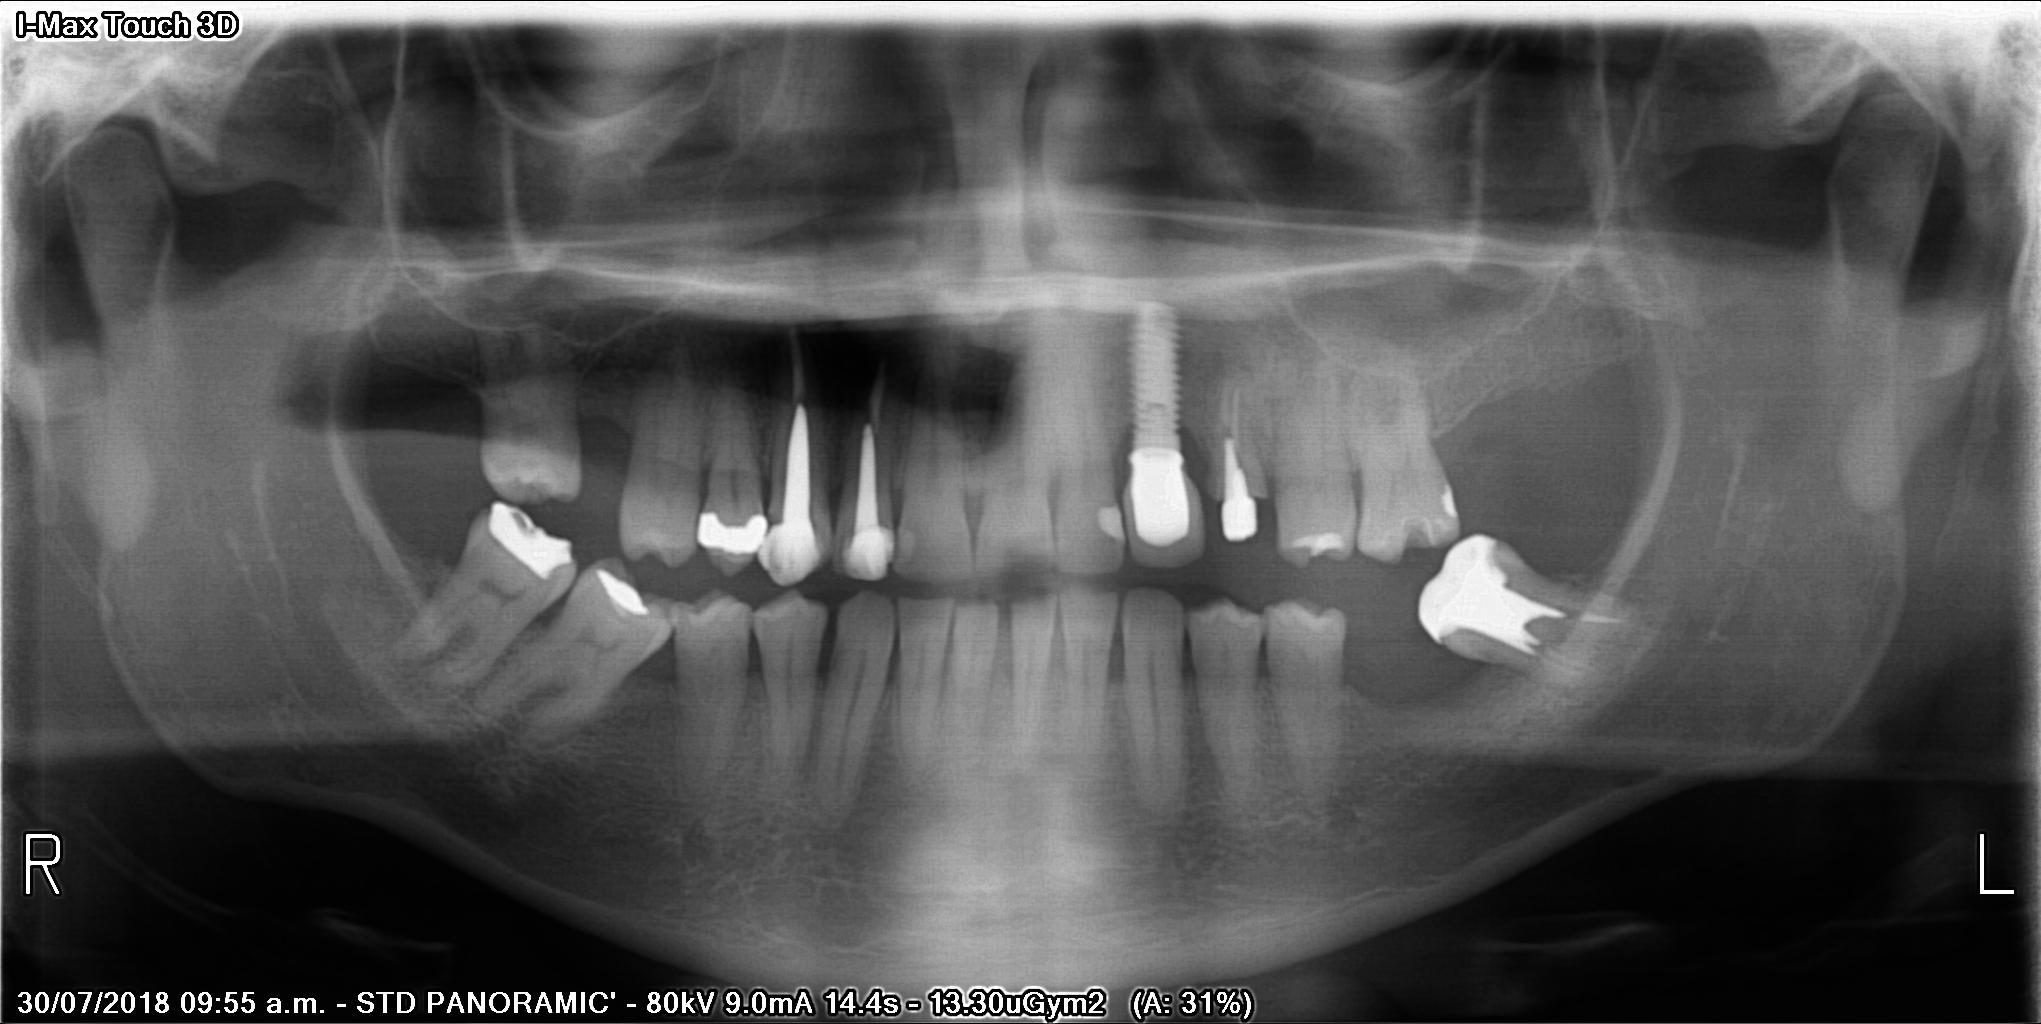Çürük: (1425, 526, 1574, 647), (474, 487, 576, 588), (1214, 448, 1268, 555), (750, 521, 827, 585), (588, 556, 654, 620), (827, 525, 892, 588), (689, 505, 764, 554), (1427, 481, 1479, 526), (1090, 503, 1130, 555), (1274, 530, 1345, 559)
Çürük Bölgesi: (1396, 509, 1448, 569)
